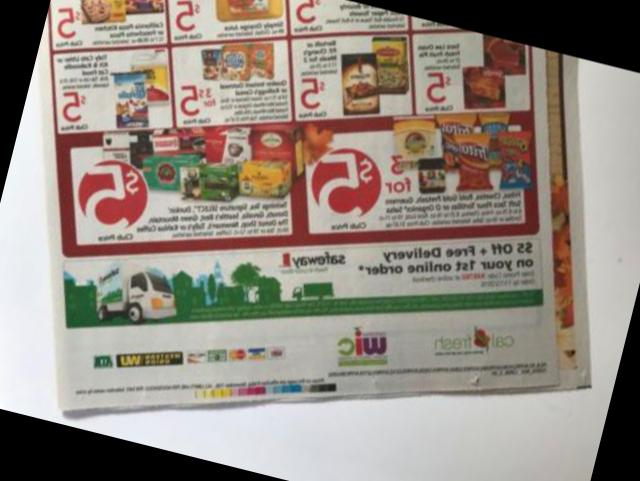cardboard paper: (38, 0, 587, 418)
